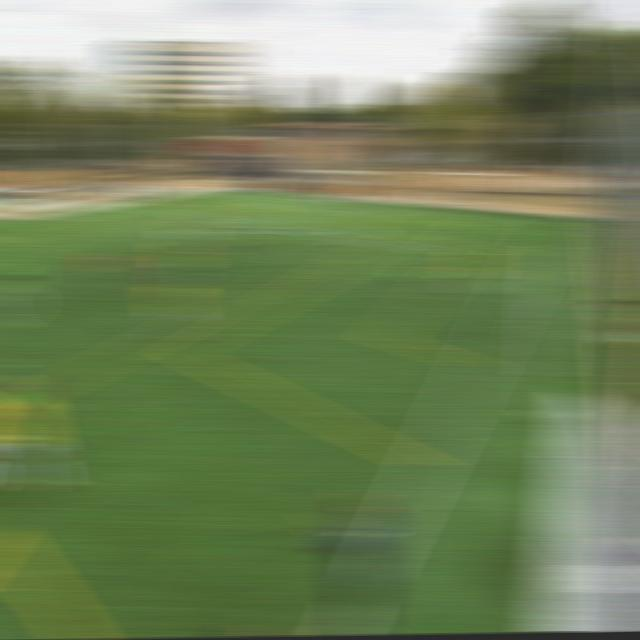bigarea_bottom_inner: (424, 246, 457, 260)
bigarea_bottom_outter: (471, 212, 504, 223)
bigarea_top_inner: (125, 206, 153, 213)
bigarea_top_outter: (217, 191, 246, 197)
bottom_arc_area_intersection: (288, 224, 323, 238)
corner: (537, 217, 568, 230)
smallarea_bottom_inner: (363, 210, 392, 219)
smallarea_bottom_outter: (381, 205, 409, 213)
smallarea_top_outter: (267, 195, 297, 202)
